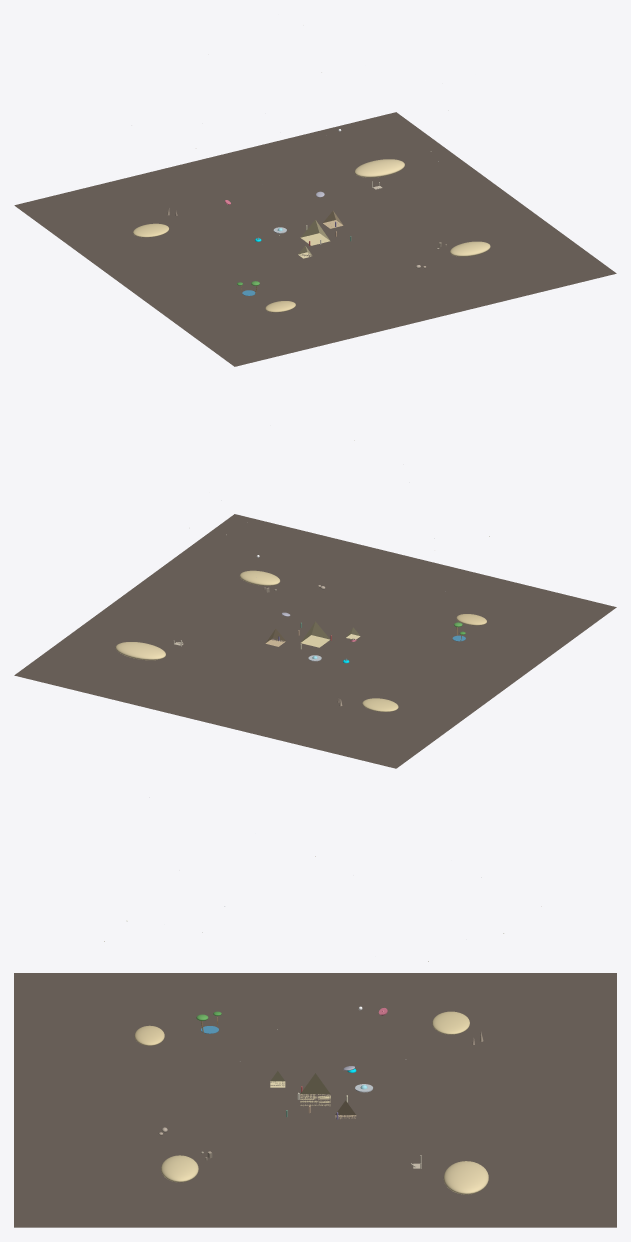
3 renders of one model, top to bottom at view 1: azimuth 30°, elevation 25°; view 2: azimuth 150°, elevation 25°; view 3: azimuth 270°, elevation 25°, orthographic. The views are drawn at different scales.
Parts seen in each view (by area): view 1: ground_plane, dune_3, dune_1; view 2: ground_plane, dune_3; view 3: ground_plane, dune_3, dune_1, dune_4, pyramid.
Part boxes in pixels (bbox=[...]): ground_plane: bbox=[14, 112, 616, 366]; dune_3: bbox=[354, 159, 404, 177]; dune_1: bbox=[450, 241, 490, 256]; ground_plane: bbox=[14, 514, 616, 768]; dune_3: bbox=[115, 642, 165, 660]; ground_plane: bbox=[14, 973, 616, 1227]; dune_3: bbox=[443, 1161, 488, 1194]; dune_1: bbox=[161, 1155, 198, 1182]; dune_4: bbox=[432, 1011, 469, 1034]; pyramid: bbox=[300, 1073, 330, 1105].
Size of the model in its own units: 80 by 36.78 by 80.
